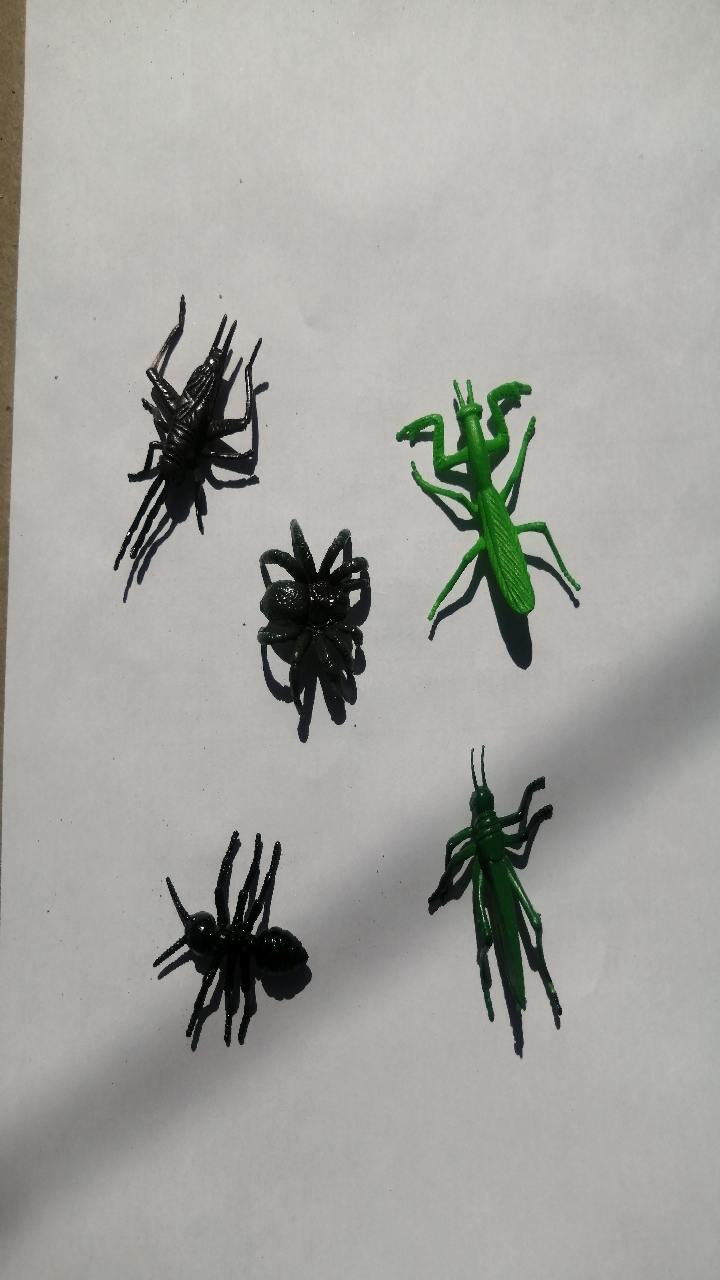intruso: (363, 339, 615, 666), (406, 735, 604, 1069), (112, 799, 328, 1069), (86, 257, 280, 557), (228, 502, 394, 739)
